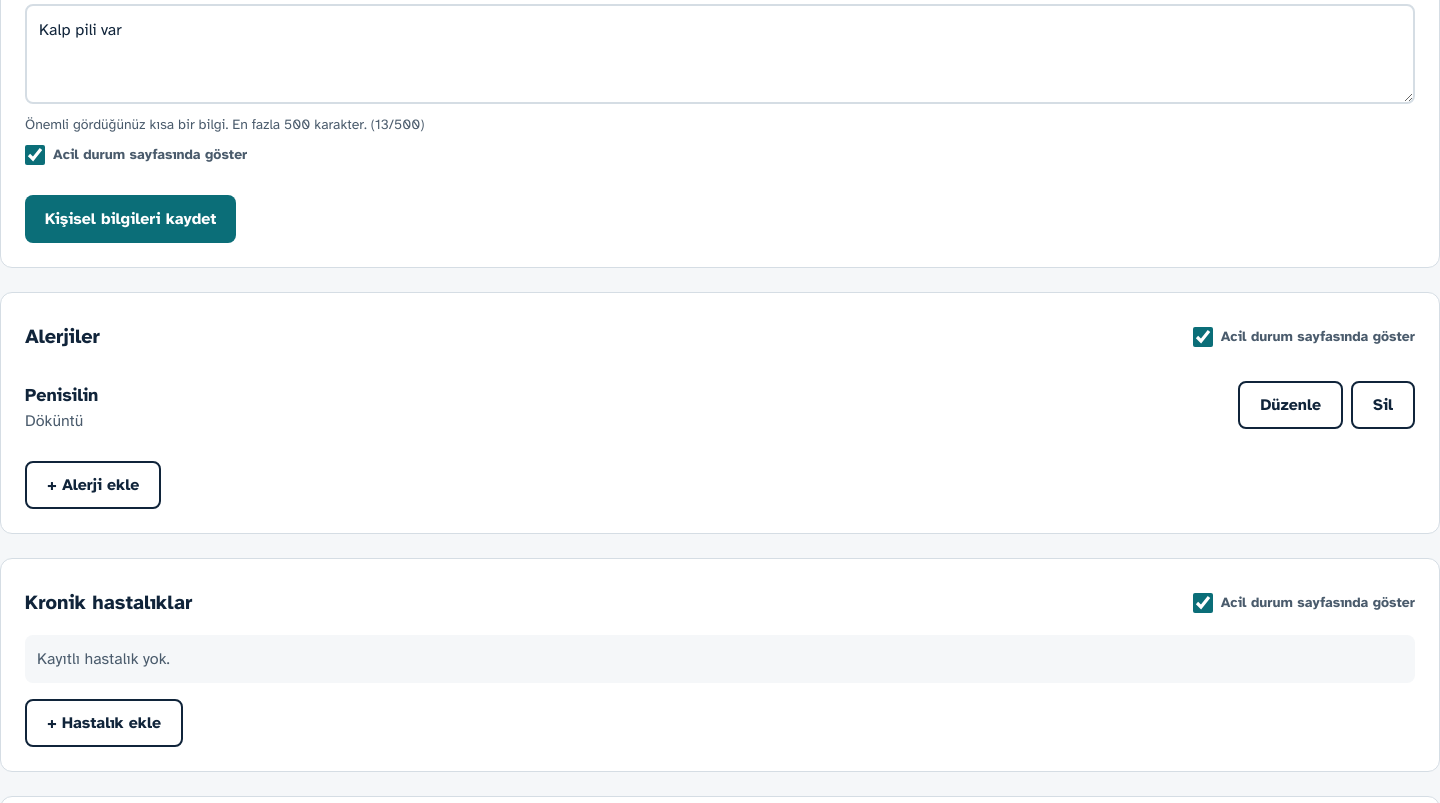
Test: Sağlık profili sayfası › kaydı düzenler
(page scrolled)
Click the button with aria-label "Düzenle: Penisilin" at (1291, 405), box [1238,381,1343,429]
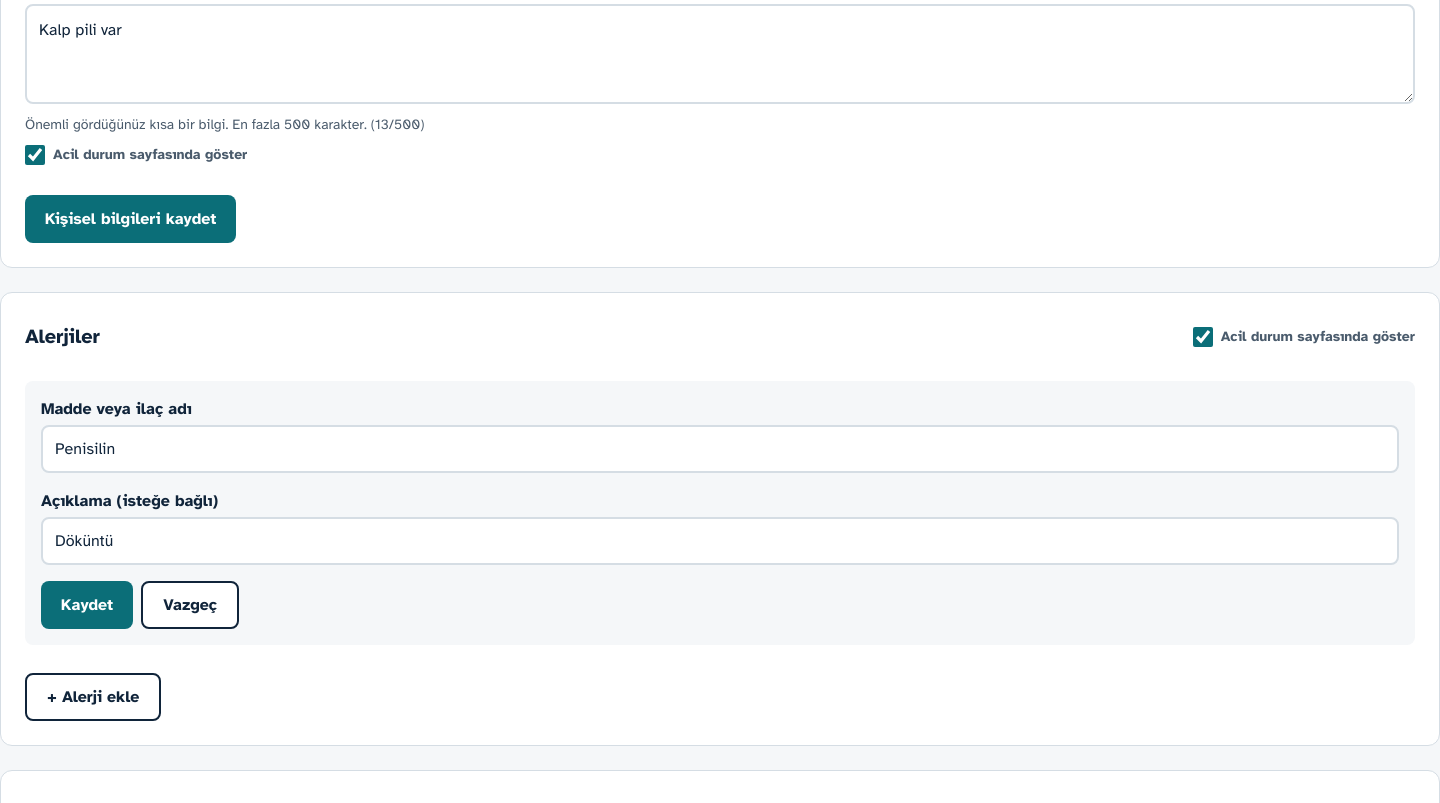
Replace the text in the field labelled "Madde veya ilaç adı" with "Penisilin G" at (720, 449), box [41,425,1399,473]
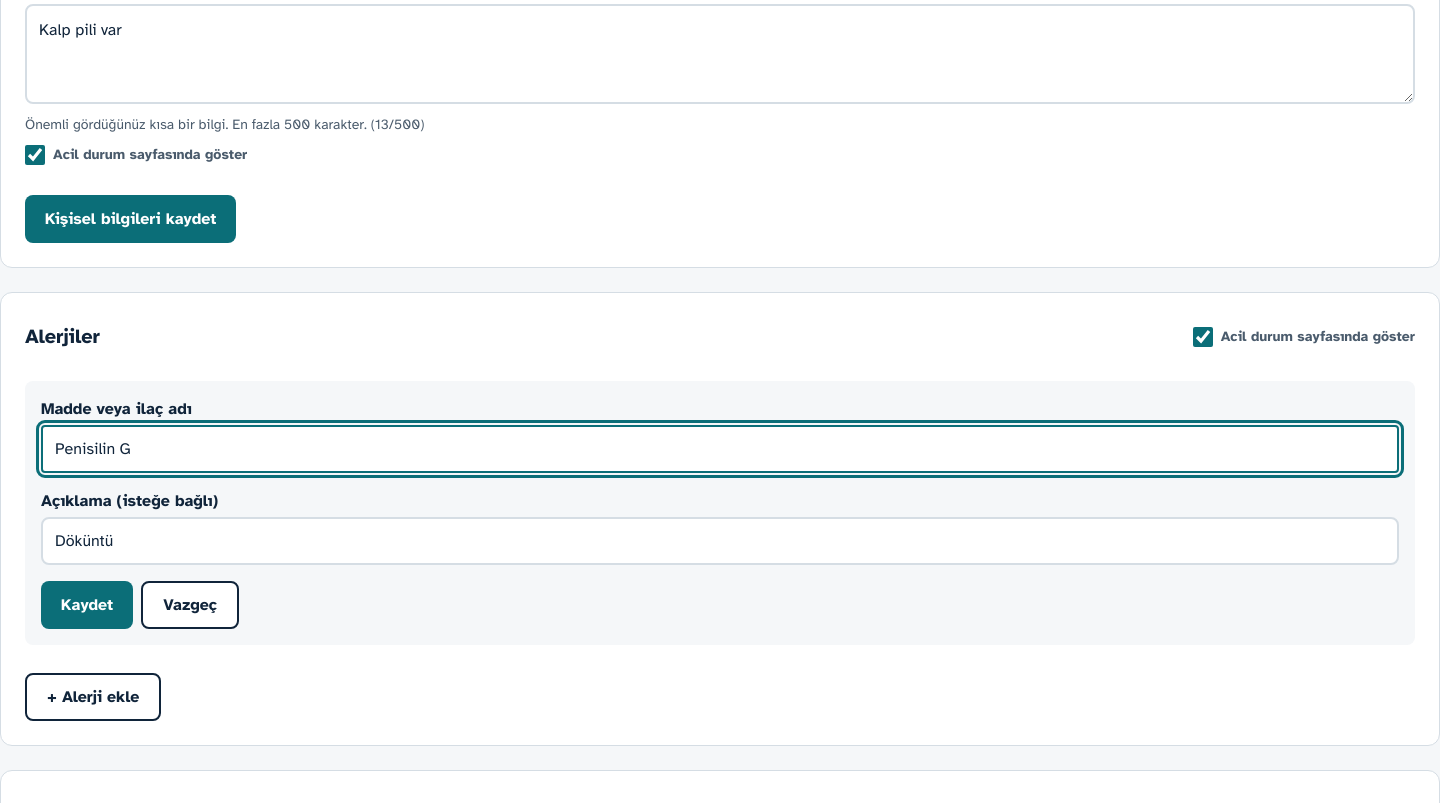
Click the button "Kaydet" at (87, 605), box [41,581,133,629]
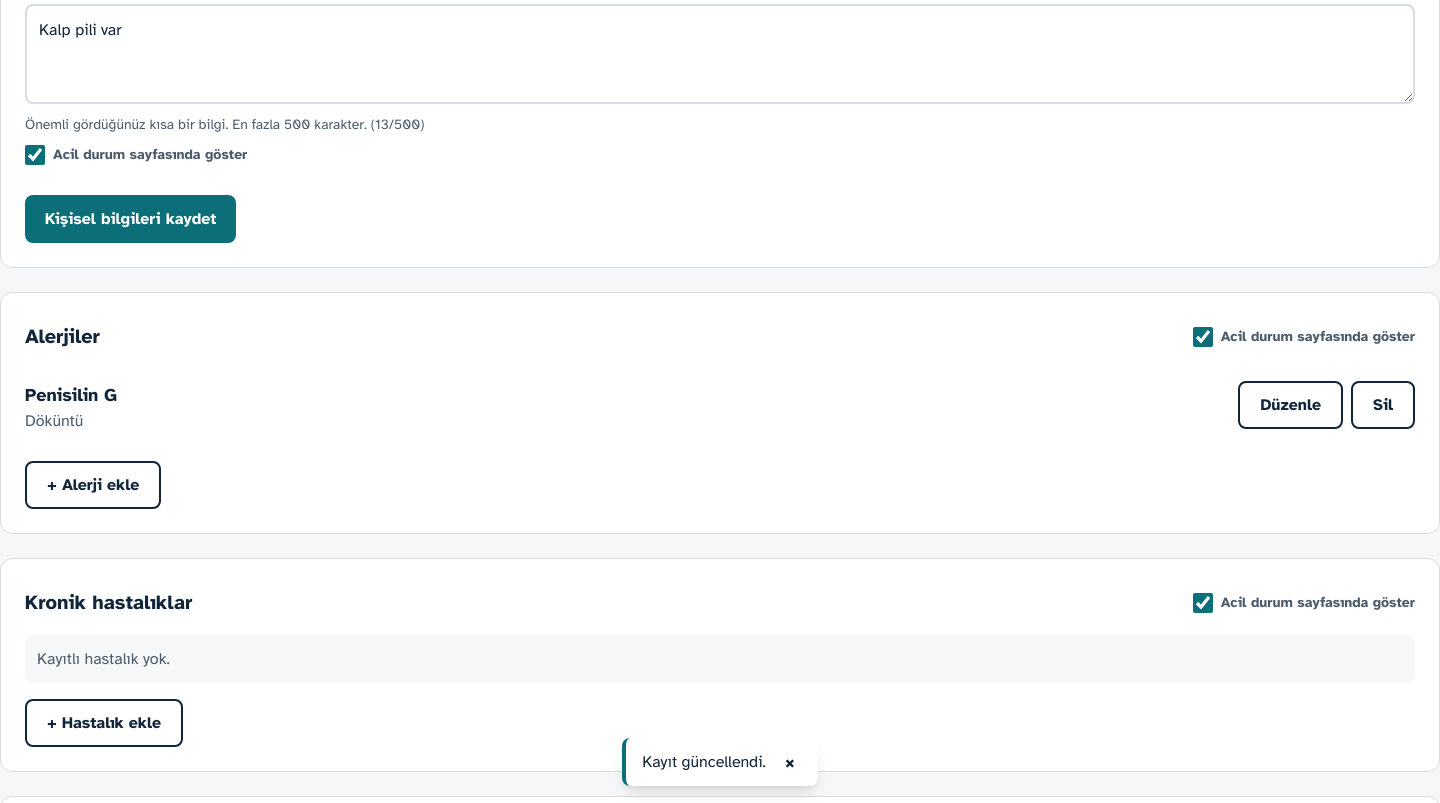
Check: the text "Penisilin G" is shown, box [25,384,117,406]
